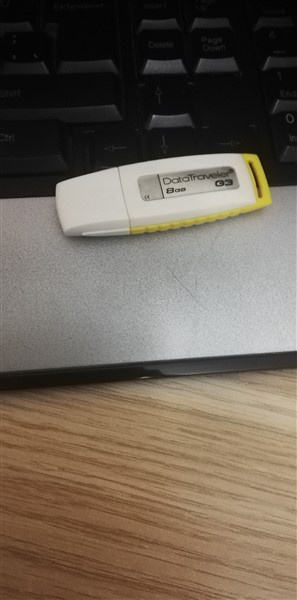flash disk: (53, 147, 270, 241)
klavye: (1, 1, 296, 373)
